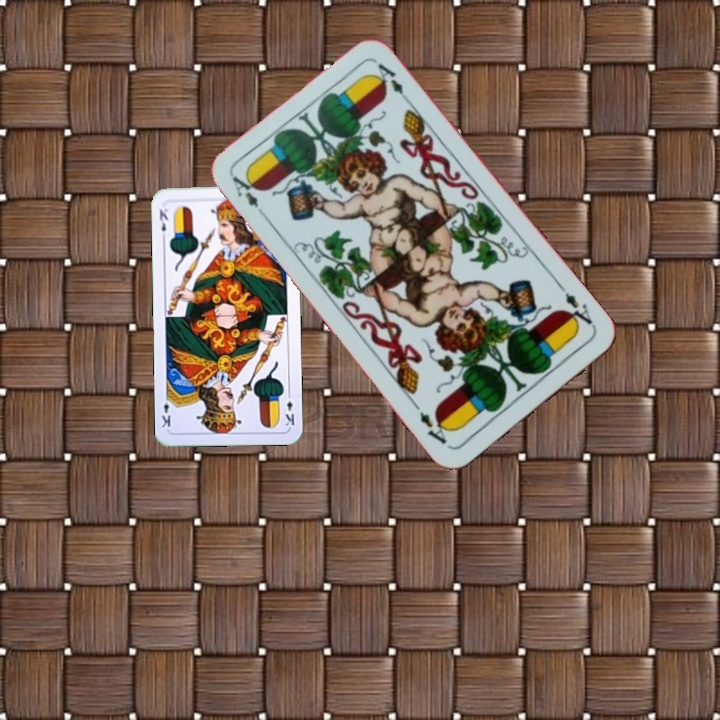EA: (554, 281, 595, 332), (228, 172, 270, 221)
EK: (282, 388, 297, 429), (155, 204, 171, 242)
